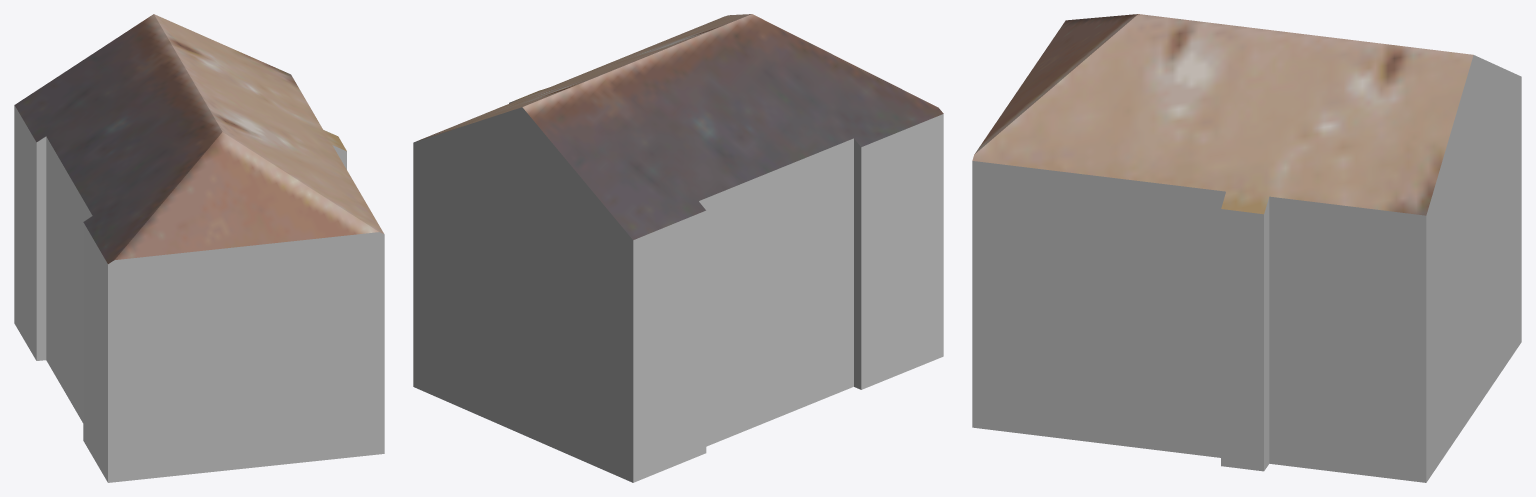
File: DEBW_0010007Txbg.gltf
3 views of the same model, side by side, from view 1: azimuth 30°, elevation 25°; view 2: azimuth 150°, elevation 25°; view 3: azimuth 270°, elevation 25° (orthographic). The views are drawn at different scales.
Visible parts, largest first — view 1: Z_UP; view 2: Z_UP; view 3: Z_UP.
Boxes of the visible parts, x1,y1,x2,y2 form: Z_UP: (14, 14, 384, 482); Z_UP: (413, 14, 943, 482); Z_UP: (972, 14, 1521, 482).
Size of the model in its own units: 14.8 by 12.62 by 17.53.
2 materials, 1 textured.
